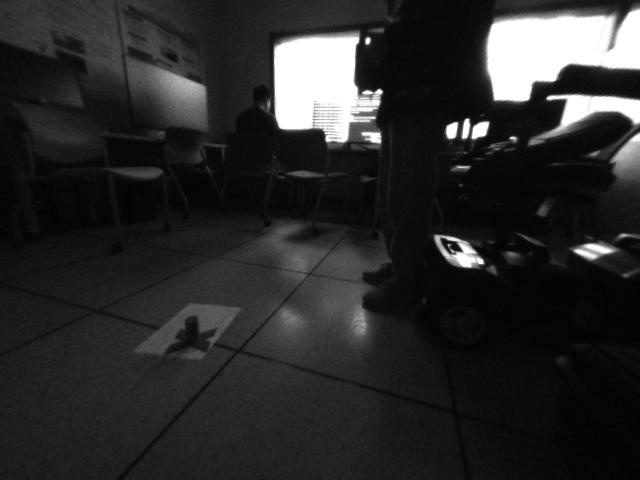x: (163, 315, 219, 359)
